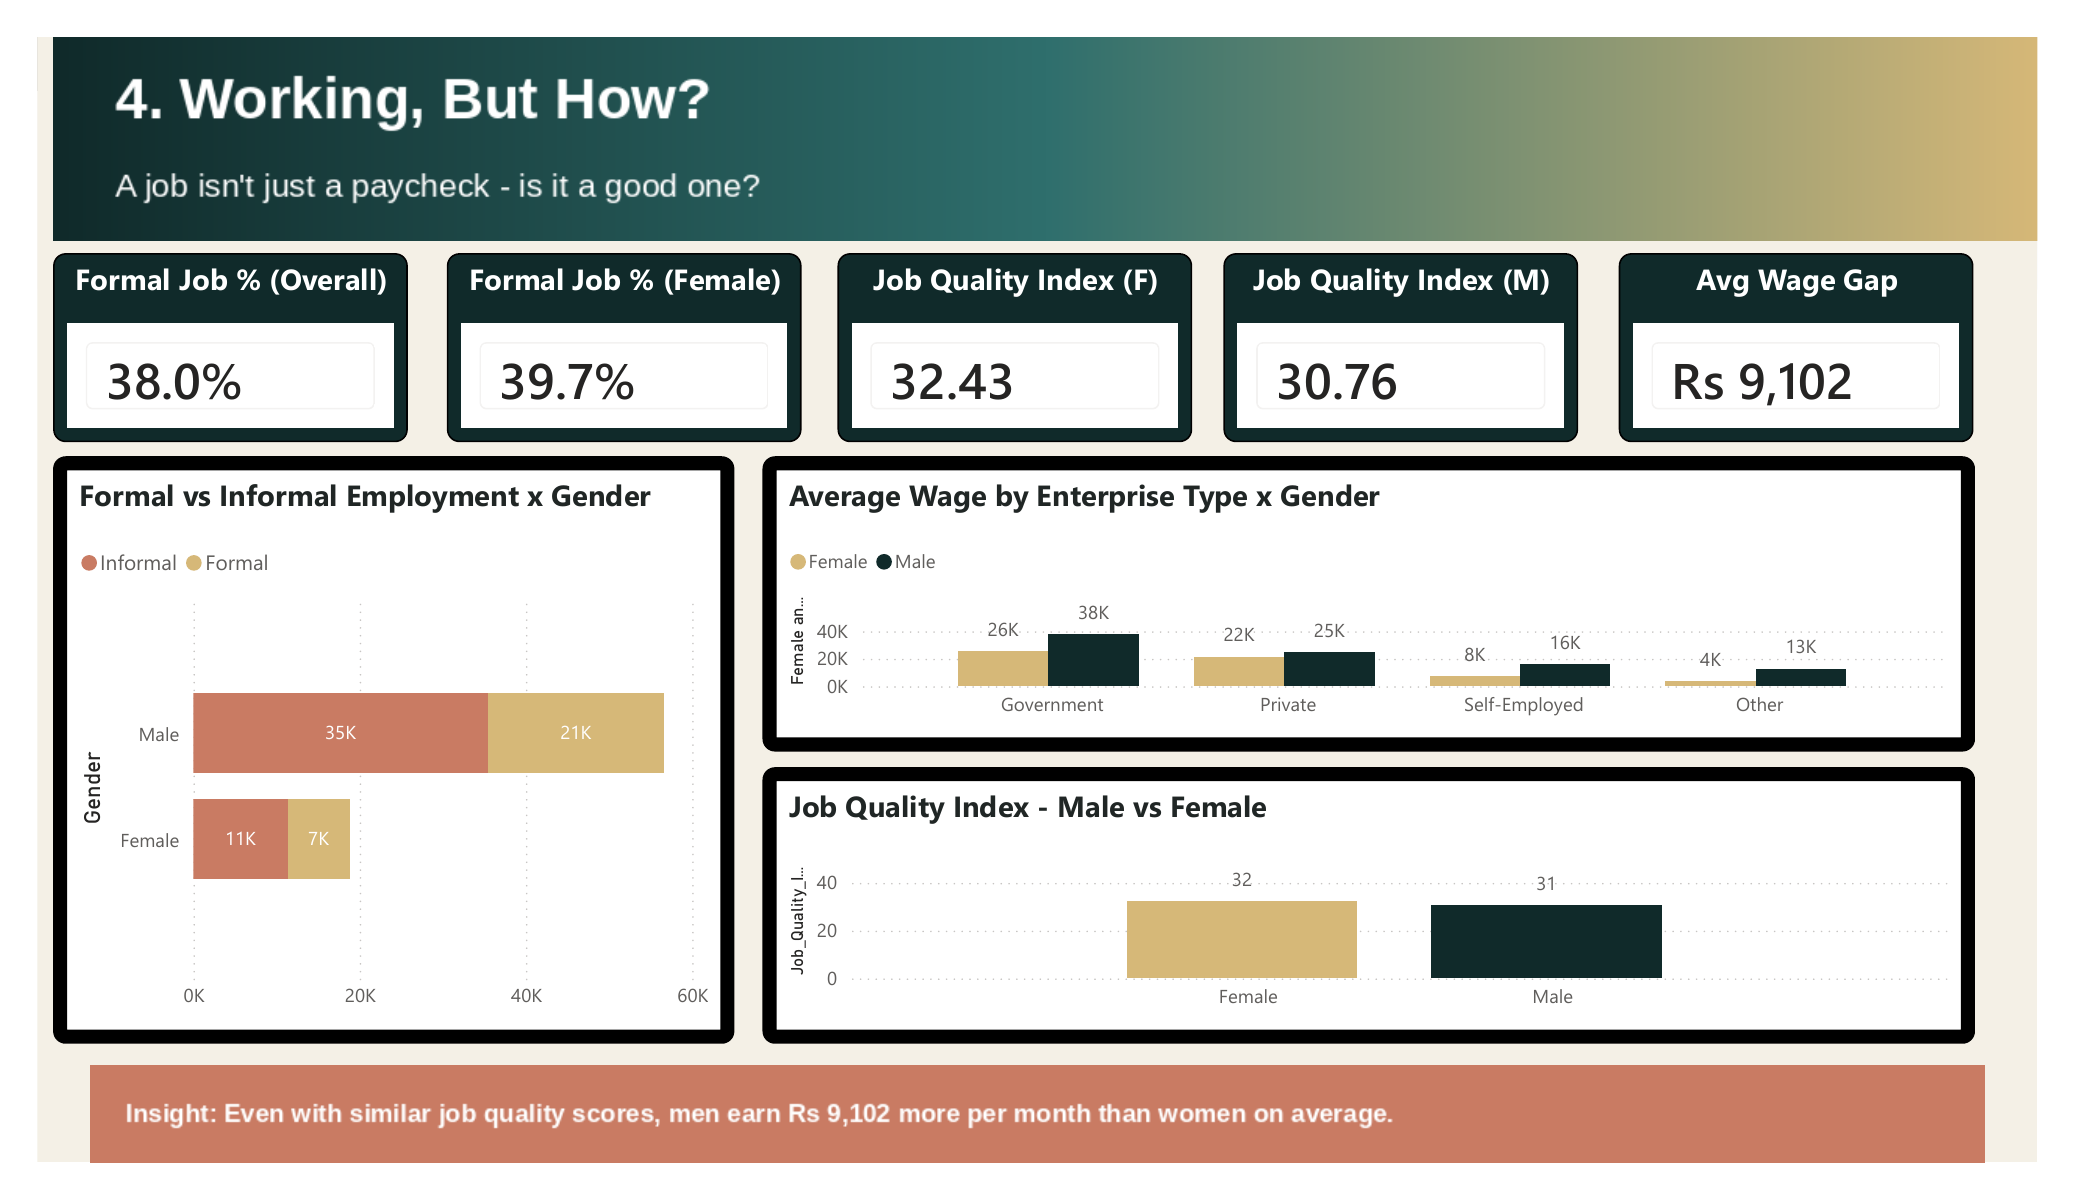

This screenshot's page, from the dashboard's own definition file:
{"tool":"powerbi","page":{"name":"4. Working, But How?","canvas":[1280,720],"ordinal":4},"visuals":[{"type":"image","box":[10,0,1270,130],"z":0},{"type":"cardVisual","title":"Formal Job % (Overall)","fields":{"Data":["_Measures.Formal_Job_Percent_Display"]},"box":[9.9,138.3,226.8,120.6],"z":1000},{"type":"cardVisual","title":"Formal Job % (Female)","fields":{"Data":["_Measures.Formal_Job_Percent_Female_Display"]},"box":[261.7,138.3,226.8,120.6],"z":2000},{"type":"cardVisual","title":"Job Quality Index (F)","fields":{"Data":["_Measures.Job_Quality_Index_Female"]},"box":[512.3,138.3,226.8,120.6],"z":3000},{"type":"cardVisual","title":"Job Quality Index (M)","fields":{"Data":["_Measures.Job_Quality_Index_Male"]},"box":[759.3,138.3,226.8,120.6],"z":4000},{"type":"cardVisual","title":"Avg Wage Gap","fields":{"Data":["_Measures.Average_Wage_Gap_Display"]},"box":[1012.3,138.3,226.8,120.6],"z":5000},{"type":"barChart","title":"Formal vs Informal Employment x Gender","fields":{"Category":["PLFS_Main.Gender"],"Y":["_Measures.Informal_Count","_Measures.Formal_Count"]},"box":[9.9,267.9,435.8,376.5],"z":6000},{"type":"clusteredColumnChart","title":"Average Wage by Enterprise Type x Gender","fields":{"Y":["_Measures.Female_Avg_Wage","_Measures.Male_Avg_Wage"],"Category":["PLFS_Main.Enterprise_Group"]},"box":[464.2,267.9,775.3,188.9],"z":7000},{"type":"clusteredColumnChart","title":"Job Quality Index - Male vs Female","fields":{"Category":["PLFS_Main.Gender"],"Y":["_Measures.Job_Quality_Index"]},"box":[464.2,466.7,775.3,177.8],"z":8000},{"type":"image","box":[0,658,1280.2,61.7],"z":9000}]}

Visuals, with their boxes on the page's 1280x720 design canvas (x1, y1, x2, y2). These are canvas units, not pixel positions in the 2075x1200 screenshot, which may show the page scaled, cropped or inside an application window:
image: (left=10, top=0, right=1280, bottom=130)
"Formal Job % (Overall)" cardVisual: (left=10, top=138, right=237, bottom=259)
"Formal Job % (Female)" cardVisual: (left=262, top=138, right=488, bottom=259)
"Job Quality Index (F)" cardVisual: (left=512, top=138, right=739, bottom=259)
"Job Quality Index (M)" cardVisual: (left=759, top=138, right=986, bottom=259)
"Avg Wage Gap" cardVisual: (left=1012, top=138, right=1239, bottom=259)
"Formal vs Informal Employment x Gender" barChart: (left=10, top=268, right=446, bottom=644)
"Average Wage by Enterprise Type x Gender" clusteredColumnChart: (left=464, top=268, right=1240, bottom=457)
"Job Quality Index - Male vs Female" clusteredColumnChart: (left=464, top=467, right=1240, bottom=644)
image: (left=0, top=658, right=1280, bottom=720)
